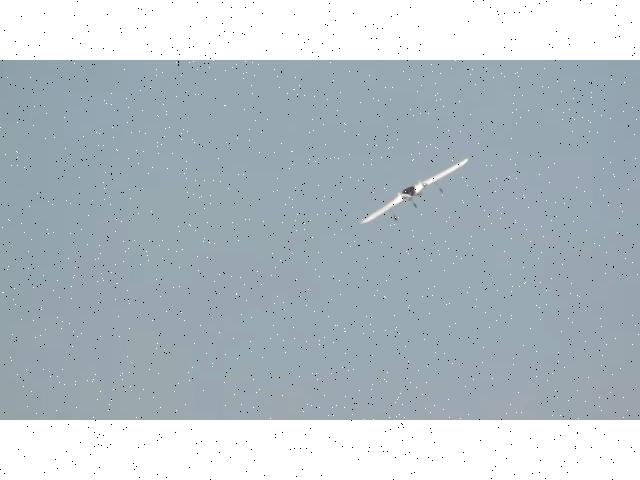Anti-Drone: (360, 159, 468, 225)
